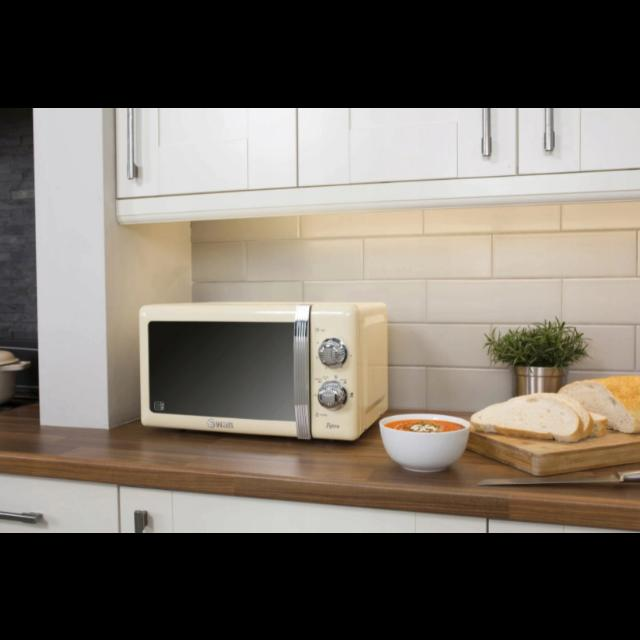Microwave: (136, 302, 392, 443)
